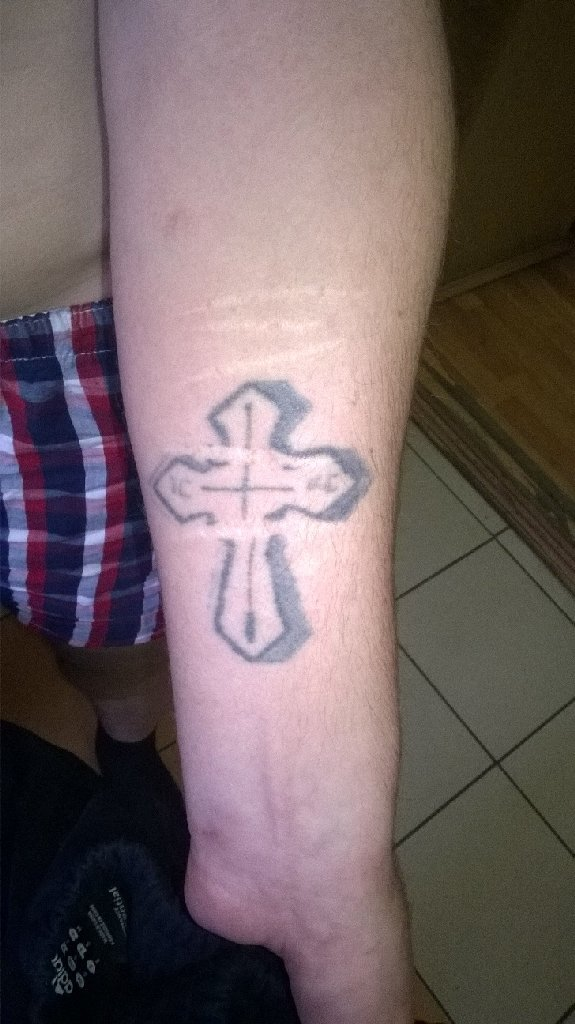tatu9_krest: (147, 371, 378, 684)
